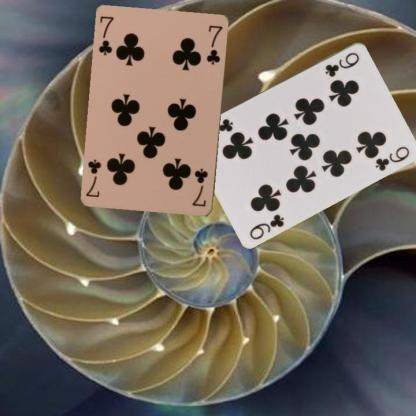7c: (96, 14, 115, 57), (190, 166, 209, 208)
9c: (247, 211, 286, 241), (323, 49, 361, 78)
